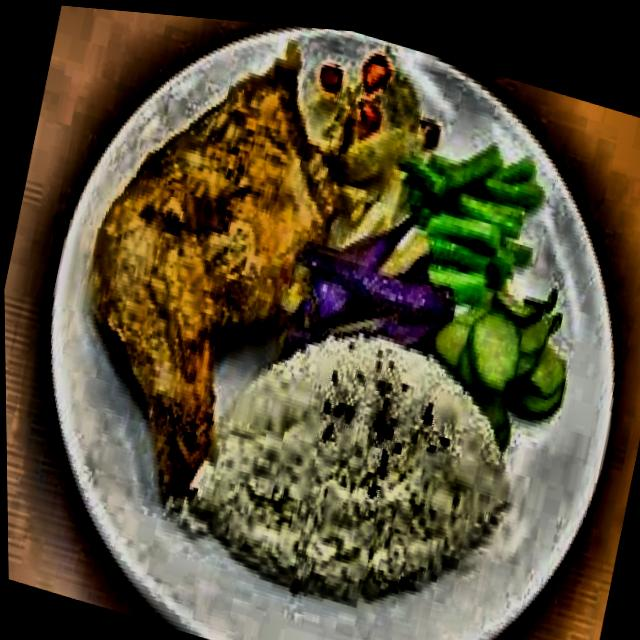Food: (210, 308, 484, 583)
